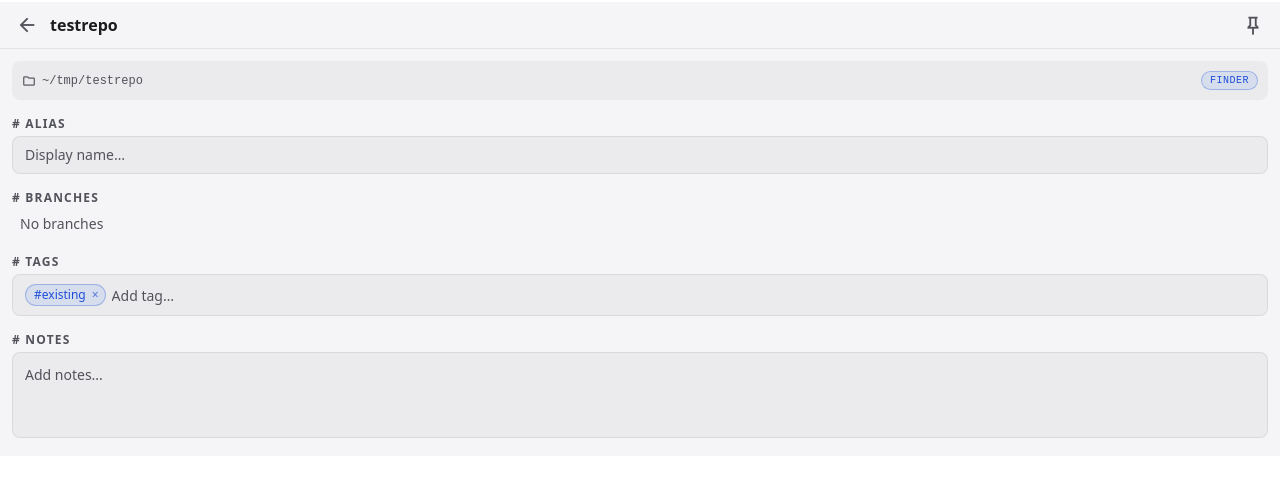
Test case: DetailPane › tag_add_duplicate_shows_tagError_without_invoke
Type "existing" into the field with placeholder "Add tag…" at (683, 296), box [112,286,1255,306]
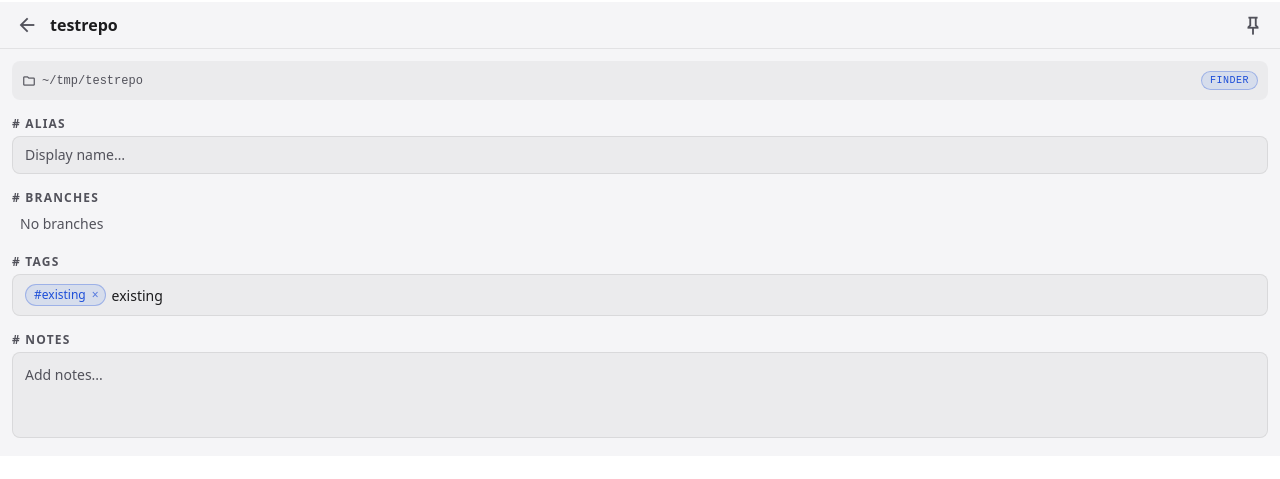
Press Enter in the field with placeholder "Add tag…", box [112,286,1255,306]
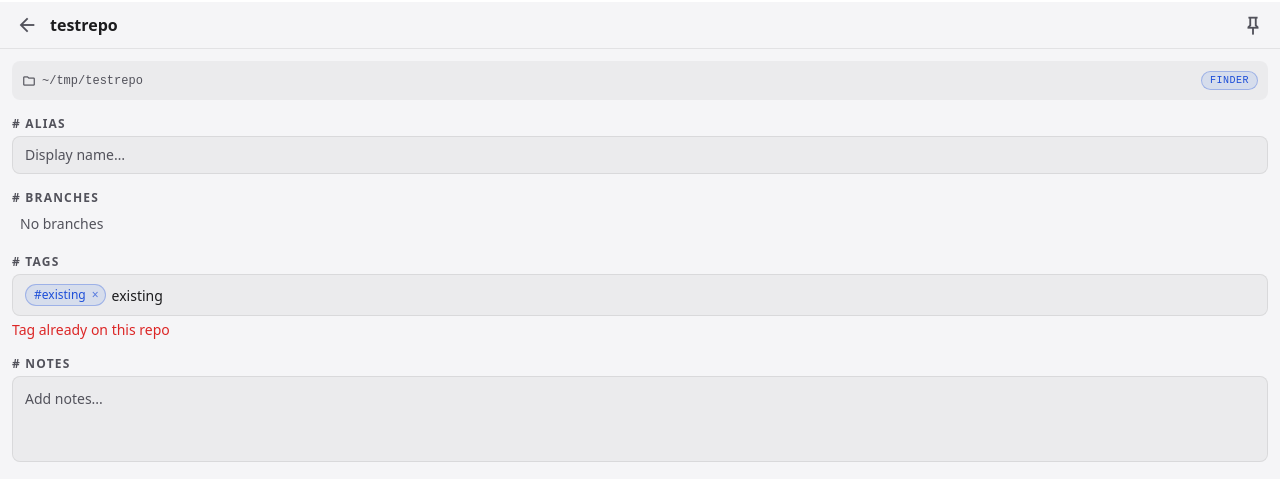
Expected: the text "Tag already on this repo" is shown, [12,320,170,339]
